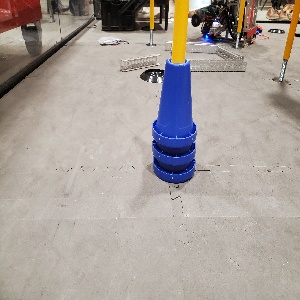Blue_3: (150, 57, 197, 183)
